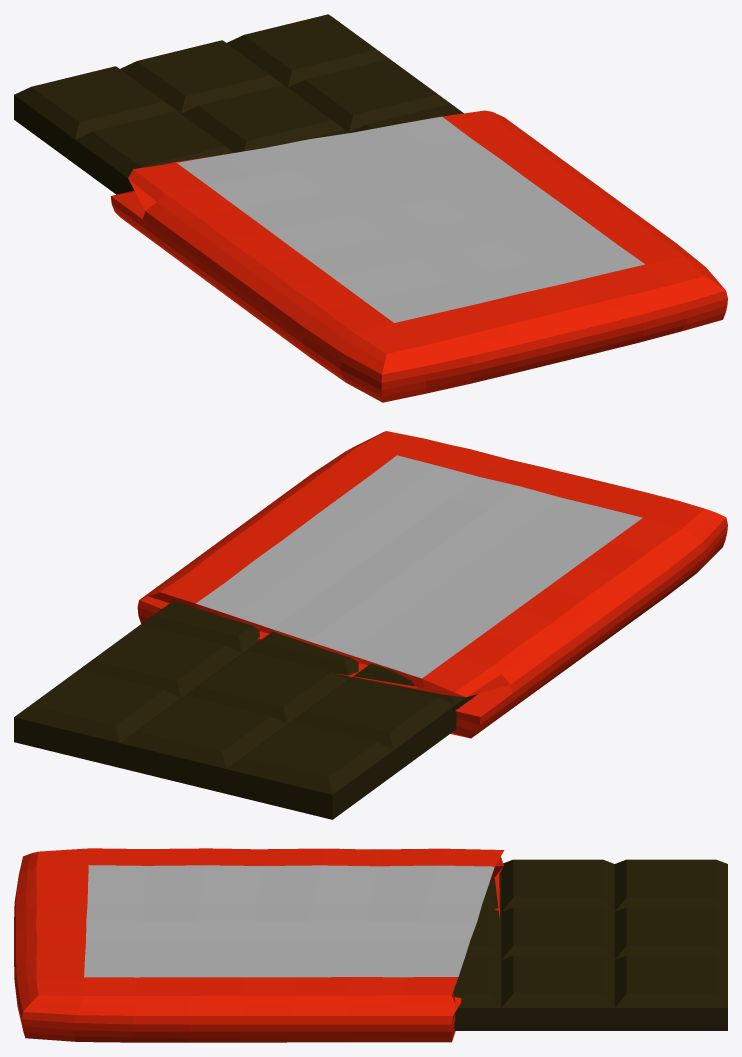
File: chocolate bar.fbx
3 renders of one model, top to bottom at view 1: azimuth 30°, elevation 25°; view 2: azimuth 150°, elevation 25°; view 3: azimuth 270°, elevation 25°, orthographic. The views are drawn at different scales.
Parts seen in each view (by area): view 1: Cube; view 2: Cube; view 3: Cube.
Boxes of the visible parts, left/top/right/bottom form: Cube: left=14, top=14, right=727, bottom=402; Cube: left=14, top=431, right=727, bottom=819; Cube: left=14, top=848, right=727, bottom=1042.
Size of the model in its own units: 349 by 42.28 by 630.
